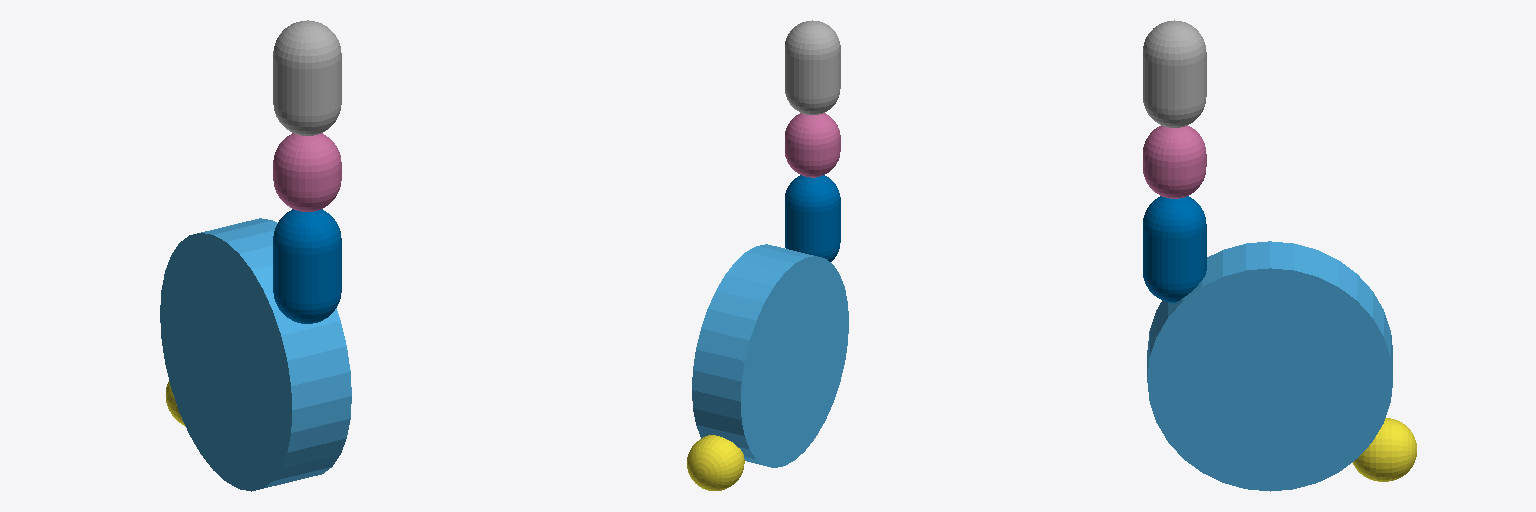
The robot description file, URDF, robot "DexterousHand":
<?xml version="1.0"?>
<robot name="DexterousHand">


    <link name="world"/>
    <joint name="world_to_palm" type="fixed">
        <parent link="world"/>
        <child link="palm"/>
        <origin xyz="0 0 0" rpy="0 0 0"/>
    </joint>
    <link name="palm">
        <inertial>
            <origin xyz="0 0 0.057" rpy="0 0 0"/>
            <mass value="0.30212892864"/>
            <inertia ixx="0.00049080844457568" ixy="0.0" ixz="0.0" iyy="0.00026746366246427523" iyz="0.0" izz="0.00026746366246427523"/>
        </inertial>
        <visual>
            <origin xyz="0 0 0.057" rpy="1.5708 0 1.5708"/>
            <geometry>
                <cylinder radius="0.057" length="0.0296"/>
            </geometry>
            <material name="default"/>
        </visual>
        <collision>
            <origin xyz="0 0 0.057" rpy="1.5708 0 1.5708"/>
            <geometry>
                <cylinder radius="0.057" length="0.0296"/>
            </geometry>
        </collision>
    </link>

    
    <joint name="thumb_joint1" type="revolute">
        <parent link="palm"/>
        <child link="thumb_base"/>
        <origin xyz="0.0029 0.0368 0.0157" rpy="-1.5708 -1.5708 0.0"/>
        <axis xyz="-1 0 0"/>
        <limit lower="-0.349" upper="2.094" effort="1.0" velocity="1.0"/>
    </joint>

    <link name="thumb_base"></link>

    <joint name="thumb_joint2" type="revolute">
        <parent link="thumb_base"/>
        <child link="thumb_proximal"/>
        <origin xyz="0.0 0.0 0.0" rpy="0.0 0.0 0.0"/>
        <axis xyz="0 0 1"/>
        <limit lower="-0.47" upper="2.443" effort="1.0" velocity="1.0"/>
    </joint>

    <link name="thumb_proximal">
        <inertial>
            <origin xyz="0 0 0.01565" rpy="0 0 0"/>
            <mass value="0.021538658803200002"/>
            <inertia ixx="2.9378910096388167e-06" ixy="0.0" ixz="0.0" 
            iyy="2.9378910096388167e-06" iyz="0.0" izz="2.358913912126464e-06"/>
        </inertial>
        <visual>
            <origin xyz="0 0 0.01565" rpy="0 0 0"/>
            <geometry>
                <cylinder radius="0.0148" length="0.0017000000000000001"/>
            </geometry>
            <material name="default"/>
        </visual>
        <visual>
            <origin xyz="0 0 0.0148" rpy="0 0 0"/>
            <geometry>
                <sphere radius="0.0148"/>
            </geometry>
            <material name="default"/>
        </visual>
        <visual>
            <origin xyz="0 0 0.0165" rpy="0 0 0"/>
            <geometry>
                <sphere radius="0.0148"/>
            </geometry>
            <material name="default"/>
        </visual>
        <collision>
            <origin xyz="0 0 0.01565" rpy="0 0 0"/>
            <geometry>
                <cylinder radius="0.0148" length="0.0017000000000000001"/>
            </geometry>
        </collision>
        <collision>
            <origin xyz="0 0 0.0148" rpy="0 0 0"/>
            <geometry>
                <sphere radius="0.0148"/>
            </geometry>
        </collision>
        <collision>
            <origin xyz="0 0 0.0165" rpy="0 0 0"/>
            <geometry>
                <sphere radius="0.0148"/>
            </geometry>
        </collision>
    </link>

    <joint name="thumb_joint3" type="revolute">
        <parent link="thumb_proximal"/>
        <child link="thumb_knuckle"/>
        <origin xyz="0.0 0.0 0.0" rpy="0.0 0.0 0.0"/>
        <axis xyz="1 0 0"/>
        <limit lower="0.0" upper="0.0" effort="1.0" velocity="1.0"/>
    </joint>

    <link name="thumb_knuckle"></link>

    <joint name="thumb_joint4" type="revolute">
        <parent link="thumb_knuckle"/>
        <child link="thumb_middle"/>
        <origin xyz="0 0 0" rpy="0 0 0"/> 
        <axis xyz="0 1 0"/>
        <limit lower="0.0" upper="0.0" effort="1.0" velocity="1.0"/>
    </joint>

    <link name="thumb_middle">
    </link>

    <joint name="thumb_joint5" type="revolute">
        <parent link="thumb_middle"/>
        <child link="thumb_distal"/>
        <origin xyz="0 0 0" rpy="0 0 0"/> 
        <axis xyz="0 1 0"/>
        <limit lower="0.0" upper="0.0" effort="1.0" velocity="1.0"/>
    </joint>

    <link name="thumb_distal">
    </link>

    
    <joint name="index_joint1" type="revolute">
        <parent link="palm"/>
        <child link="index_proximal"/>
        <origin xyz="0.0 0.0 0.0" rpy="0.0 0.0 0.0"/>
        <axis xyz="1 0 0"/>
        <limit lower="0.0" upper="0.0" effort="1.0" velocity="1.0"/>
    </joint>

    <link name="index_proximal">
    </link>

    <joint name="index_joint2" type="revolute">
        <parent link="index_proximal"/>
        <child link="index_dummy"/>
        <origin xyz="0.0 0.0 0.0" rpy="0.0 0.0 0.0"/>
        <axis xyz="0 1 0"/>
        <limit lower="0.0" upper="0.0" effort="1.0" velocity="1.0"/>
    </joint>

    <link name="index_dummy"></link>

    <joint name="index_joint3" type="revolute">
        <parent link="index_dummy"/>
        <child link="index_middle"/>
        <origin xyz="0 0 0" rpy="0 0 0"/>
        <axis xyz="0 1 0"/>
        <limit lower="0.0" upper="0.0" effort="1.0" velocity="1.0"/>
    </joint>

    <link name="index_middle">
    </link>

    <joint name="index_joint4" type="revolute">
        <parent link="index_middle"/>
        <child link="index_distal"/>
        <origin xyz="0 0 0" rpy="0 0 0"/> 
        <axis xyz="0 1 0"/>
        <limit lower="0.0" upper="0.0" effort="1.0" velocity="1.0"/>
    </joint>

    <link name="index_distal">
    </link>

    
    <joint name="middle_joint1" type="revolute">
        <parent link="palm"/>
        <child link="middle_proximal"/>
        <origin xyz="0.0 0.0 0.0" rpy="0.0 0.0 0.0"/>
        <axis xyz="1 0 0"/>
        <limit lower="0.0" upper="0.0" effort="1.0" velocity="1.0"/>
    </joint>

    <link name="middle_proximal">
    </link>

    <joint name="middle_joint2" type="revolute">
        <parent link="middle_proximal"/>
        <child link="middle_dummy"/>
        <origin xyz="0.0 0.0 0.0" rpy="0.0 0.0 0.0"/>
        <axis xyz="0 1 0"/>
        <limit lower="0.0" upper="0.0" effort="1.0" velocity="1.0"/>
    </joint>

    <link name="middle_dummy"></link>

    <joint name="middle_joint3" type="revolute">
        <parent link="middle_dummy"/>
        <child link="middle_middle"/>
        <origin xyz="0 0 0" rpy="0 0 0"/>
        <axis xyz="0 1 0"/>
        <limit lower="0.0" upper="0.0" effort="1.0" velocity="1.0"/>
    </joint>

    <link name="middle_middle">
    </link>

    <joint name="middle_joint4" type="revolute">
        <parent link="middle_middle"/>
        <child link="middle_distal"/>
        <origin xyz="0 0 0" rpy="0 0 0"/> 
        <axis xyz="0 1 0"/>
        <limit lower="0.0" upper="0.0" effort="1.0" velocity="1.0"/>
    </joint>

    <link name="middle_distal">
    </link>

    
    <joint name="ring_joint1" type="revolute">
        <parent link="palm"/>
        <child link="ring_proximal"/>
        <origin xyz="0.0 0.0 0.0" rpy="0.0 0.0 0.0"/>
        <axis xyz="1 0 0"/>
        <limit lower="0.0" upper="0.0" effort="1.0" velocity="1.0"/>
    </joint>

    <link name="ring_proximal">
    </link>

    <joint name="ring_joint2" type="revolute">
        <parent link="ring_proximal"/>
        <child link="ring_dummy"/>
        <origin xyz="0.0 0.0 0.0" rpy="0.0 0.0 0.0"/>
        <axis xyz="0 1 0"/>
        <limit lower="0.0" upper="0.0" effort="1.0" velocity="1.0"/>
    </joint>

    <link name="ring_dummy"></link>

    <joint name="ring_joint3" type="revolute">
        <parent link="ring_dummy"/>
        <child link="ring_middle"/>
        <origin xyz="0 0 0" rpy="0 0 0"/>
        <axis xyz="0 1 0"/>
        <limit lower="0.0" upper="0.0" effort="1.0" velocity="1.0"/>
    </joint>

    <link name="ring_middle">
    </link>

    <joint name="ring_joint4" type="revolute">
        <parent link="ring_middle"/>
        <child link="ring_distal"/>
        <origin xyz="0 0 0" rpy="0 0 0"/> 
        <axis xyz="0 1 0"/>
        <limit lower="0.0" upper="0.0" effort="1.0" velocity="1.0"/>
    </joint>

    <link name="ring_distal">
    </link>

    
    <joint name="little_joint0" type="revolute">
        <parent link="palm"/>
        <child link="little_base"/>
        <origin xyz="0.0 0.0 0.0" rpy="0.0 0.0 0.0"/>
        <axis xyz="0 1 0"/>
        <limit lower="0.0" upper="0.0" effort="1.0" velocity="1.0"/>
    </joint>

    <link name="little_base"></link>

    <joint name="little_joint1" type="revolute">
        <parent link="little_base"/>
        <child link="little_proximal"/>
        <origin xyz="0.0 -0.0443 0.091" rpy="-0.0 -0.0 -0.0"/>
        <axis xyz="0 1 0"/>
        <limit lower="-0.314" upper="2.23" effort="1.0" velocity="1.0"/>
    </joint>

    <link name="little_proximal">
        <inertial>
            <origin xyz="0 0 0.02655" rpy="0 0 0"/>
            <mass value="0.036540024998400006"/>
            <inertia ixx="1.058665009272394e-05" ixy="0.0" ixz="0.0" 
            iyy="1.058665009272394e-05" iyz="0.0" izz="4.001863537824769e-06"/>
        </inertial>
        <visual>
            <origin xyz="0 0 0.02655" rpy="0 0 0"/>
            <geometry>
                <cylinder radius="0.0148" length="0.0235"/>
            </geometry>
            <material name="default"/>
        </visual>
        <visual>
            <origin xyz="0 0 0.0148" rpy="0 0 0"/>
            <geometry>
                <sphere radius="0.0148"/>
            </geometry>
            <material name="default"/>
        </visual>
        <visual>
            <origin xyz="0 0 0.0383" rpy="0 0 0"/>
            <geometry>
                <sphere radius="0.0148"/>
            </geometry>
            <material name="default"/>
        </visual>
        <collision>
            <origin xyz="0 0 0.02655" rpy="0 0 0"/>
            <geometry>
                <cylinder radius="0.0148" length="0.0235"/>
            </geometry>
        </collision>
        <collision>
            <origin xyz="0 0 0.0148" rpy="0 0 0"/>
            <geometry>
                <sphere radius="0.0148"/>
            </geometry>
        </collision>
        <collision>
            <origin xyz="0 0 0.0383" rpy="0 0 0"/>
            <geometry>
                <sphere radius="0.0148"/>
            </geometry>
        </collision>
    </link>

    <joint name="little_joint2" type="revolute">
        <parent link="little_proximal"/>
        <child link="little_dummy"/>
        <origin xyz="0.0 0.0 0.038" rpy="0.0 0.0 0.0"/>
        <axis xyz="1 0 0"/>
        <limit lower="-1.047" upper="1.047" effort="1.0" velocity="1.0"/>
    </joint>

    <link name="little_dummy"></link>

    <joint name="little_joint3" type="revolute">
        <parent link="little_dummy"/>
        <child link="little_middle"/>
        <origin xyz="0 0 0.015100000000000002" rpy="0 0 0"/>
        <axis xyz="0 1 0"/>
        <limit lower="-0.506" upper="1.885" effort="1.0" velocity="1.0"/>
    </joint>

    <link name="little_middle">
        <inertial>
            <origin xyz="0 0 0.01805" rpy="0 0 0"/>
            <mass value="0.0248417119104"/>
            <inertia ixx="4.058162759109537e-06" ixy="0.0" ixz="0.0" 
            iyy="4.058162759109537e-06" iyz="0.0" izz="2.7206642884270085e-06"/>
        </inertial>
        <visual>
            <origin xyz="0 0 0.01805" rpy="0 0 0"/>
            <geometry>
                <cylinder radius="0.0148" length="0.006499999999999999"/>
            </geometry>
            <material name="default"/>
        </visual>
        <visual>
            <origin xyz="0 0 0.0148" rpy="0 0 0"/>
            <geometry>
                <sphere radius="0.0148"/>
            </geometry>
            <material name="default"/>
        </visual>
        <visual>
            <origin xyz="0 0 0.0213" rpy="0 0 0"/>
            <geometry>
                <sphere radius="0.0148"/>
            </geometry>
            <material name="default"/>
        </visual>
        <collision>
            <origin xyz="0 0 0.01805" rpy="0 0 0"/>
            <geometry>
                <cylinder radius="0.0148" length="0.006499999999999999"/>
            </geometry>
        </collision>
        <collision>
            <origin xyz="0 0 0.0148" rpy="0 0 0"/>
            <geometry>
                <sphere radius="0.0148"/>
            </geometry>
        </collision>
        <collision>
            <origin xyz="0 0 0.0213" rpy="0 0 0"/>
            <geometry>
                <sphere radius="0.0148"/>
            </geometry>
        </collision>
    </link>

    <joint name="little_joint4" type="revolute">
        <parent link="little_middle"/>
        <child link="little_distal"/>
        <origin xyz="0 0 0.0361" rpy="0 0 0"/>
        <axis xyz="0 1 0"/>
        <limit lower="-0.366" upper="2.042" effort="1.0" velocity="1.0"/>
    </joint>

    <link name="little_distal">
        <inertial>
            <origin xyz="0 0 0.026" rpy="0 0 0"/>
            <mass value="0.035783075328"/>
            <inertia ixx="1.002260084553728e-05" ixy="0.0" ixz="0.0" 
            iyy="1.002260084553728e-05" iyz="0.0" izz="3.91896240992256e-06"/>
        </inertial>
        <visual>
            <origin xyz="0 0 0.026" rpy="0 0 0"/>
            <geometry>
                <cylinder radius="0.0148" length="0.022399999999999996"/>
            </geometry>
            <material name="default"/>
        </visual>
        <visual>
            <origin xyz="0 0 0.0148" rpy="0 0 0"/>
            <geometry>
                <sphere radius="0.0148"/>
            </geometry>
            <material name="default"/>
        </visual>
        <visual>
            <origin xyz="0 0 0.0372" rpy="0 0 0"/>
            <geometry>
                <sphere radius="0.0148"/>
            </geometry>
            <material name="default"/>
        </visual>
        <collision>
            <origin xyz="0 0 0.026" rpy="0 0 0"/>
            <geometry>
                <cylinder radius="0.0148" length="0.022399999999999996"/>
            </geometry>
        </collision>
        <collision>
            <origin xyz="0 0 0.0148" rpy="0 0 0"/>
            <geometry>
                <sphere radius="0.0148"/>
            </geometry>
        </collision>
        <collision>
            <origin xyz="0 0 0.0372" rpy="0 0 0"/>
            <geometry>
                <sphere radius="0.0148"/>
            </geometry>
        </collision>
    </link>

</robot>

--- What the picture shows (computed from the rendered views, not written in the file) ---
Views: 3 orthographic renders of the robot side by side, from view 1: azimuth 30°, elevation 25°; view 2: azimuth 150°, elevation 25°; view 3: azimuth 270°, elevation 25°.
Model DexterousHand with 24 links and 23 joints (22 revolute, 1 fixed), rooted at world, posed all joints at 0.
Visible links, largest first — view 1: palm, little_proximal, little_distal, little_middle; view 2: palm, little_distal, little_proximal, little_middle, thumb_proximal; view 3: palm, little_distal, little_proximal, little_middle, thumb_proximal.
Link boxes in pixels (box(x1,y1,x2,y2)): palm: box(160, 218, 351, 491); little_proximal: box(273, 209, 341, 323); little_distal: box(273, 20, 341, 135); little_middle: box(273, 133, 341, 211); palm: box(692, 244, 848, 467); little_distal: box(785, 20, 840, 114); little_proximal: box(785, 175, 840, 261); little_middle: box(785, 113, 840, 177); thumb_proximal: box(687, 435, 744, 490); palm: box(1147, 241, 1392, 491); little_distal: box(1143, 20, 1206, 127); little_proximal: box(1143, 196, 1206, 302); little_middle: box(1143, 125, 1206, 198); thumb_proximal: box(1352, 418, 1416, 481).
Size in the robot's own frame: 0.0325 by 0.1272 by 0.2322 metres.
Geometry: primitives only (box / cylinder / sphere), no mesh files.
